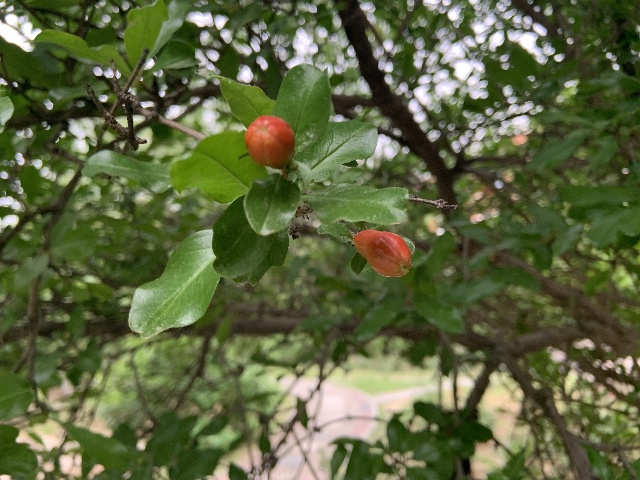bud: (353, 229, 411, 276), (244, 115, 294, 168)
